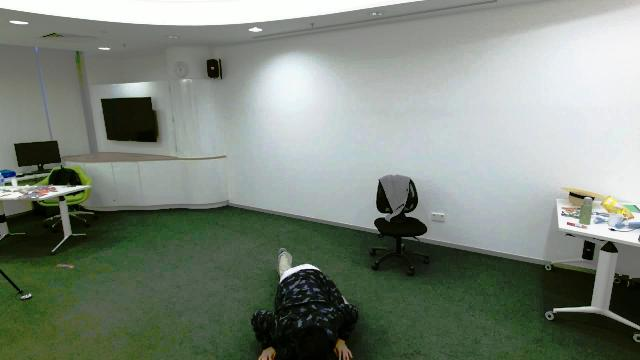jatuh: (248, 240, 362, 360)
